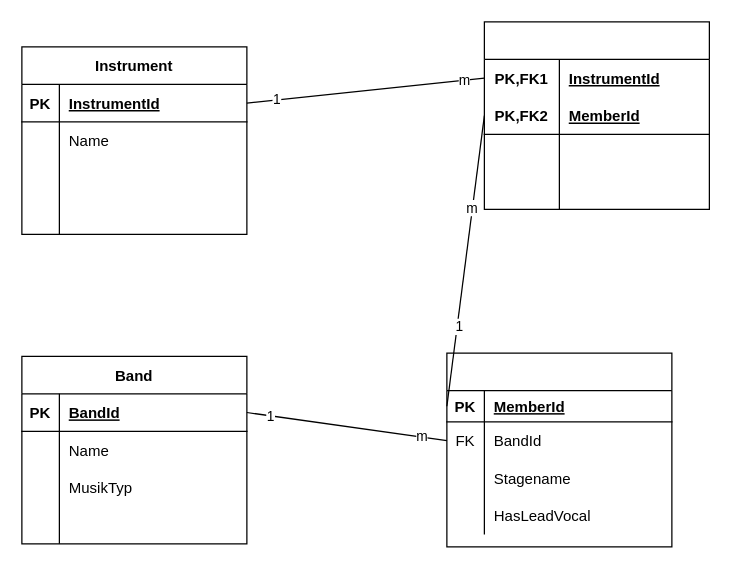
Image size: 731x569. Some labels were removed from this diagram. Here are the shapes that lost their labels. From the top down, the box of each, then its label:
(483, 21, 709, 209): MemberPlays
(446, 352, 672, 547): Bandmember
